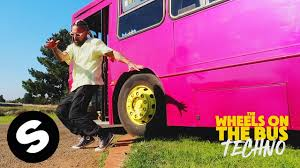bus: (70, 1, 300, 141)
